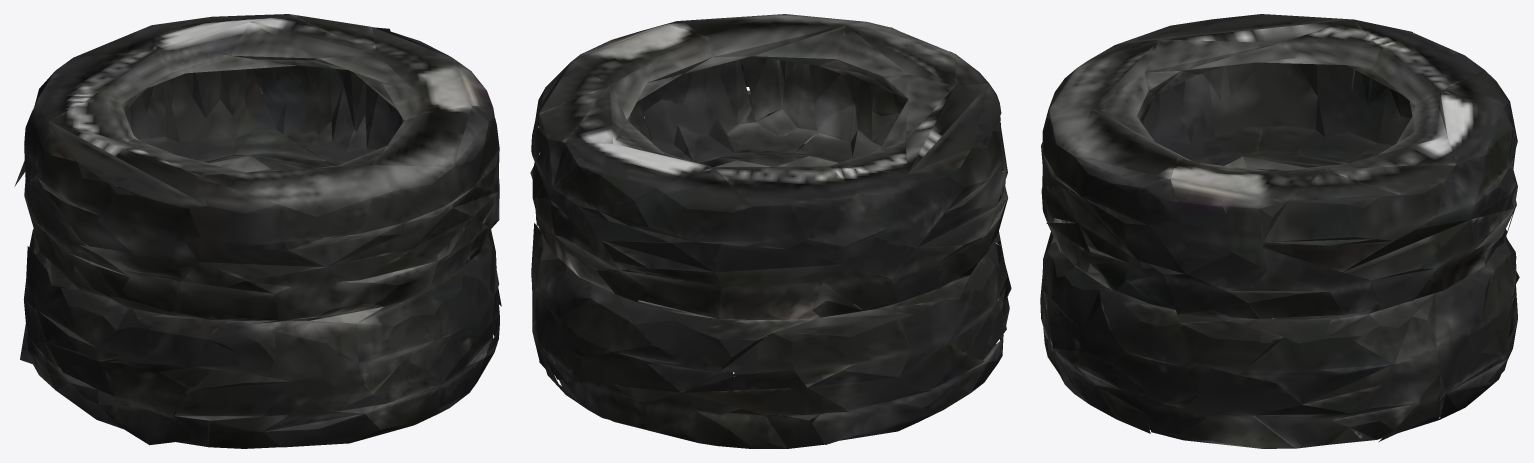
File: tires.glb
3 renders of one model, left to right at view 1: azimuth 30°, elevation 25°; view 2: azimuth 150°, elevation 25°; view 3: azimuth 270°, elevation 25°, orthographic.
Visible parts, largest first — view 1: Mesh_0; view 2: Mesh_0; view 3: Mesh_0.
Part boxes in pixels (<box>): Mesh_0: <box>14,14,501,448</box>; Mesh_0: <box>530,14,1011,448</box>; Mesh_0: <box>1040,14,1519,448</box>.
Bounding box in the file's own units: 1.92 × 1.15 × 1.9.
1 material, 1 textured.
